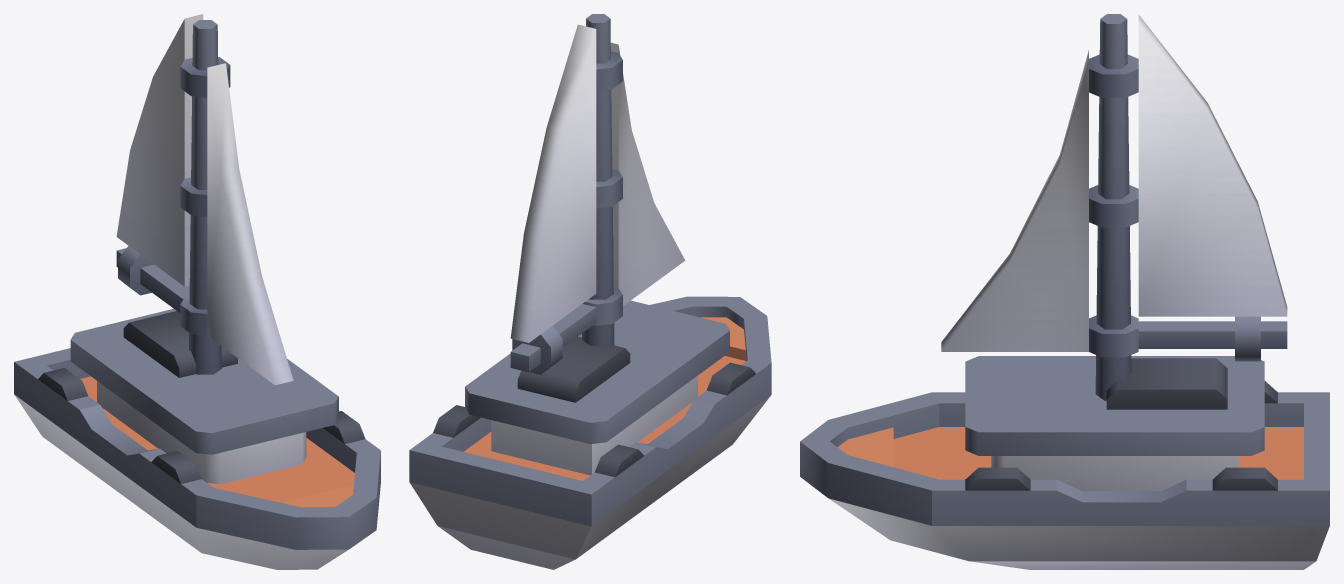
Rendered from boat_sail_b.glb.
3 views of the same model, side by side, from view 1: azimuth 30°, elevation 25°; view 2: azimuth 150°, elevation 25°; view 3: azimuth 270°, elevation 25° (orthographic). The views are drawn at different scales.
Parts seen in each view (by area): view 1: boat-sail-b; view 2: boat-sail-b; view 3: boat-sail-b.
Part boxes in pixels (<box>): boat-sail-b: <box>14,14,380,569</box>; boat-sail-b: <box>409,14,771,569</box>; boat-sail-b: <box>800,14,1329,569</box>.
Size of the model in its own units: 1.78 by 4.48 by 4.07.
1 material, 1 textured.
